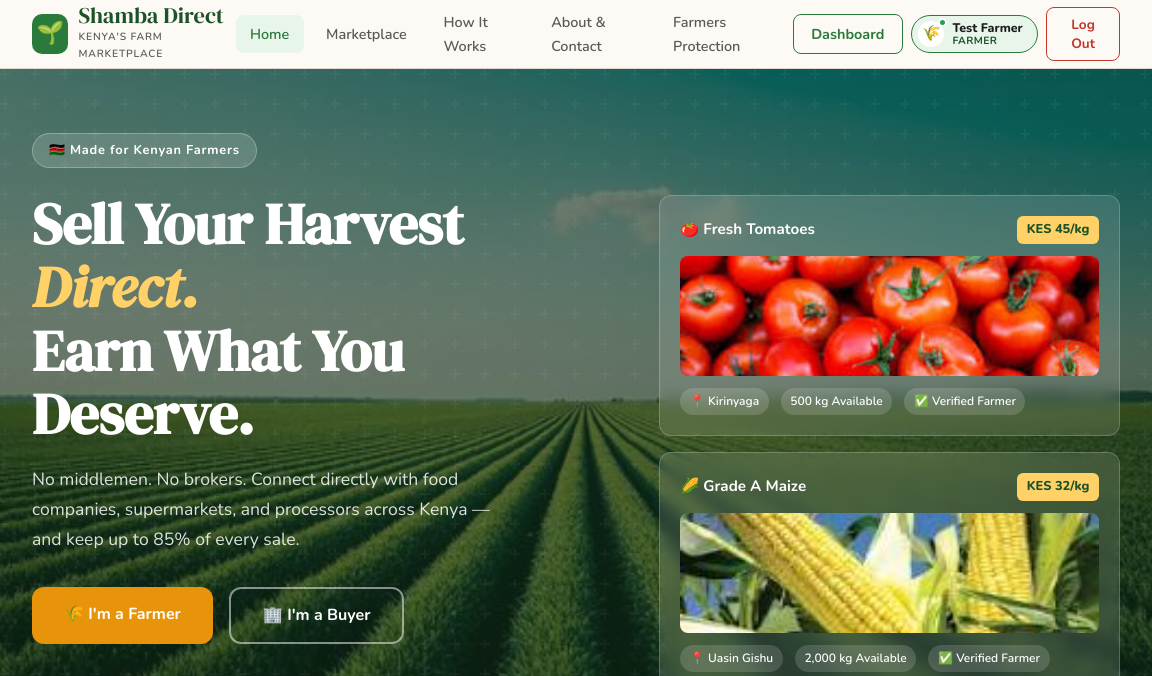
farmer dashboard navigation opens orders and earnings sections
Click the link "Dashboard". click: (848, 34)
box: [793,14,903,54]
(page scrolled)
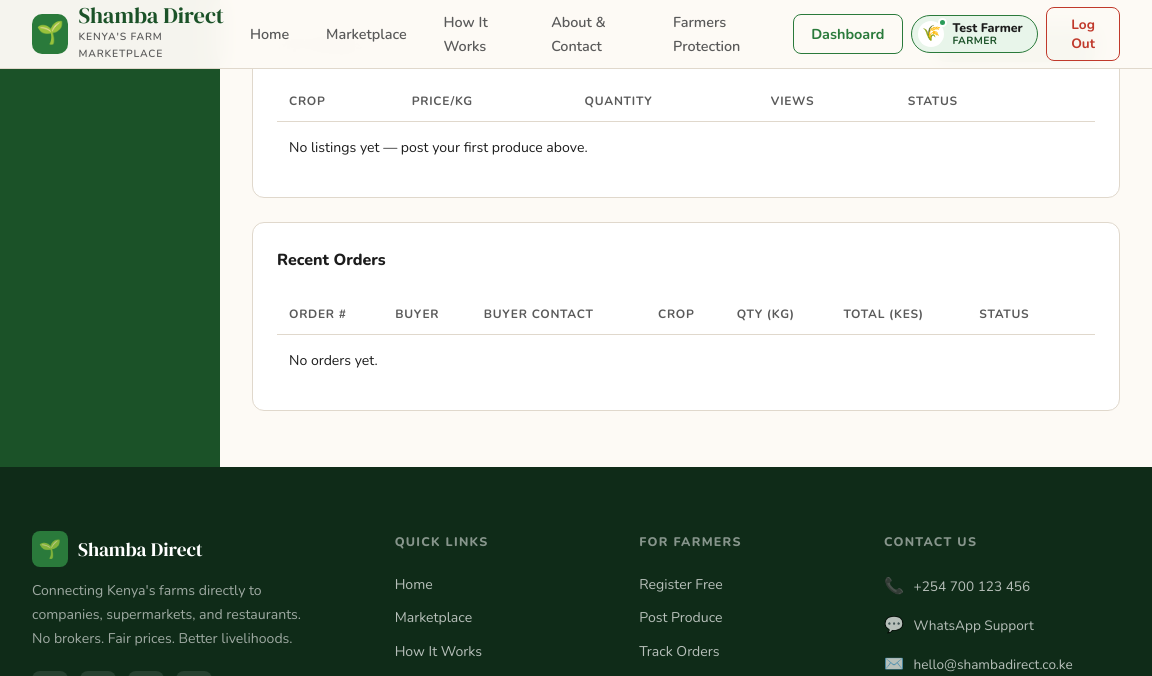
Expected: the text "Recent Orders" is shown, [277,248,386,275]
Expected: the text "No orders yet." is shown, [277,335,1095,386]
